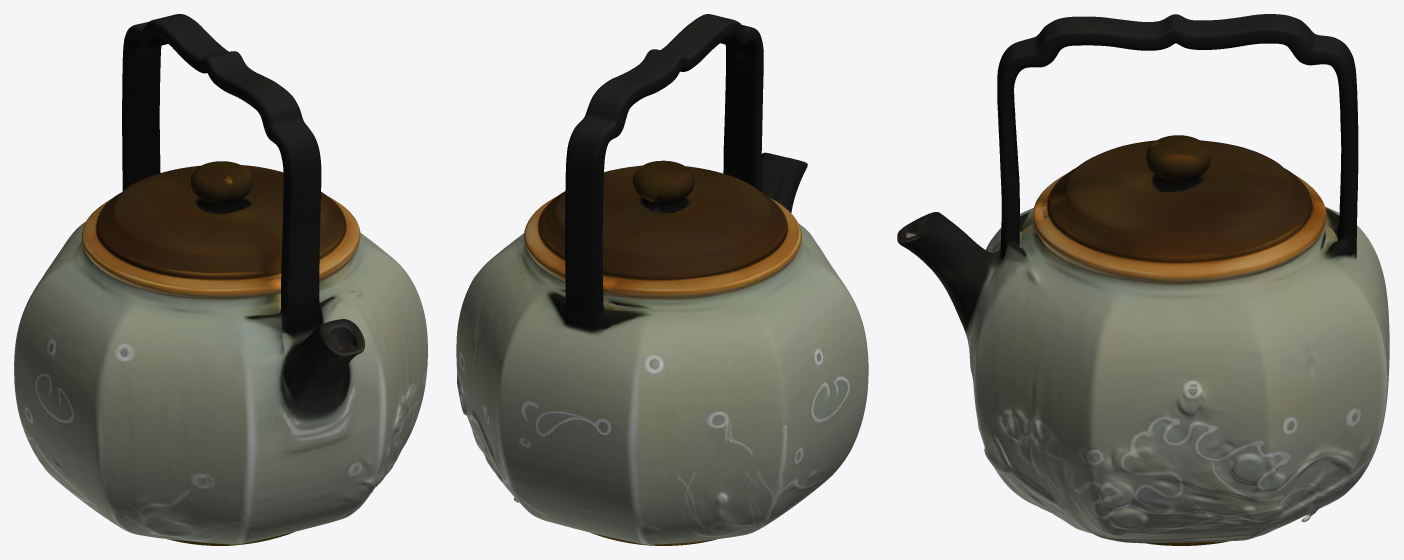
Rendered from tripo_convert_4efbf7a6-182e-4e51-a3ad-0238fe3d46bc.fbx.
3 views of the same model, side by side, from view 1: azimuth 30°, elevation 25°; view 2: azimuth 150°, elevation 25°; view 3: azimuth 270°, elevation 25° (orthographic). The views are drawn at different scales.
Visible parts, largest first — view 1: tripo_node_4efbf7a6; view 2: tripo_node_4efbf7a6; view 3: tripo_node_4efbf7a6.
Part boxes in pixels (box(x1,y1,x2,y2)): tripo_node_4efbf7a6: box(14, 14, 427, 545); tripo_node_4efbf7a6: box(456, 14, 868, 545); tripo_node_4efbf7a6: box(897, 14, 1389, 545).
Bounding box in the file's own units: 74.19 × 94.96 × 88.13.
1 material, 1 textured.
